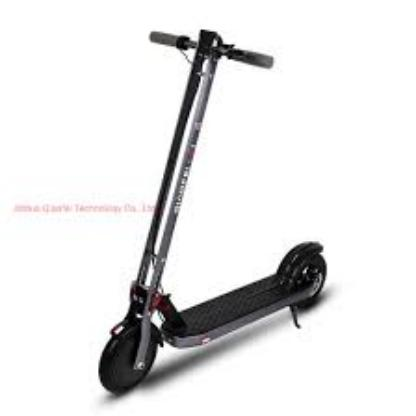bike: (97, 29, 329, 398)
